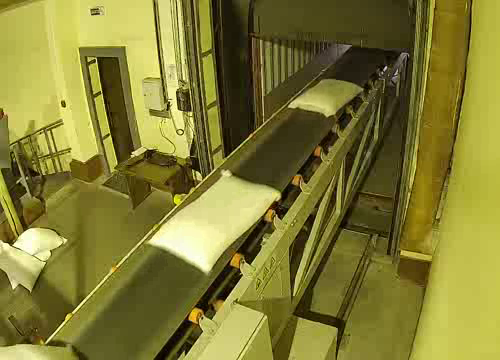bag: (144, 166, 285, 274), (284, 75, 365, 116), (1, 335, 82, 360)
